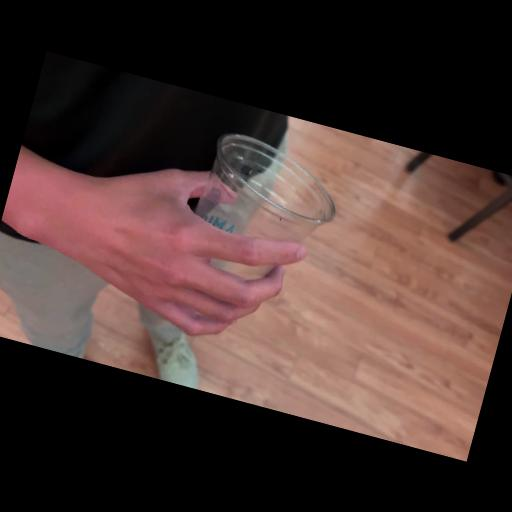lp_plastic_cup: (184, 128, 346, 288)
